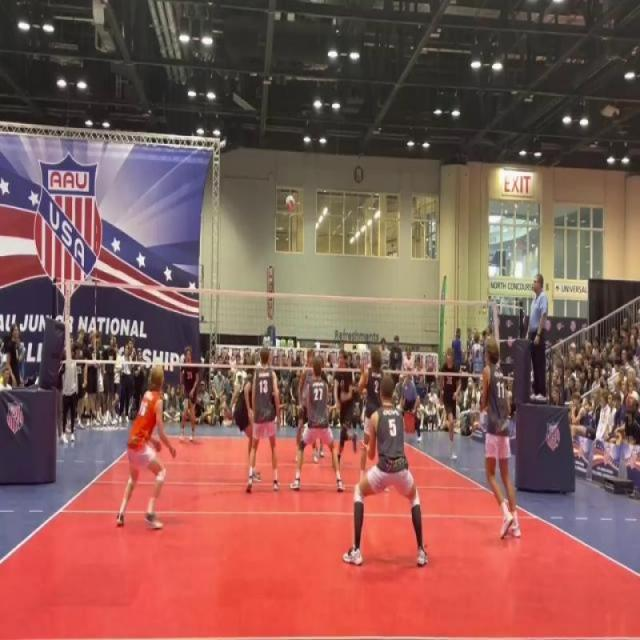volleyball: (285, 194, 296, 213)
